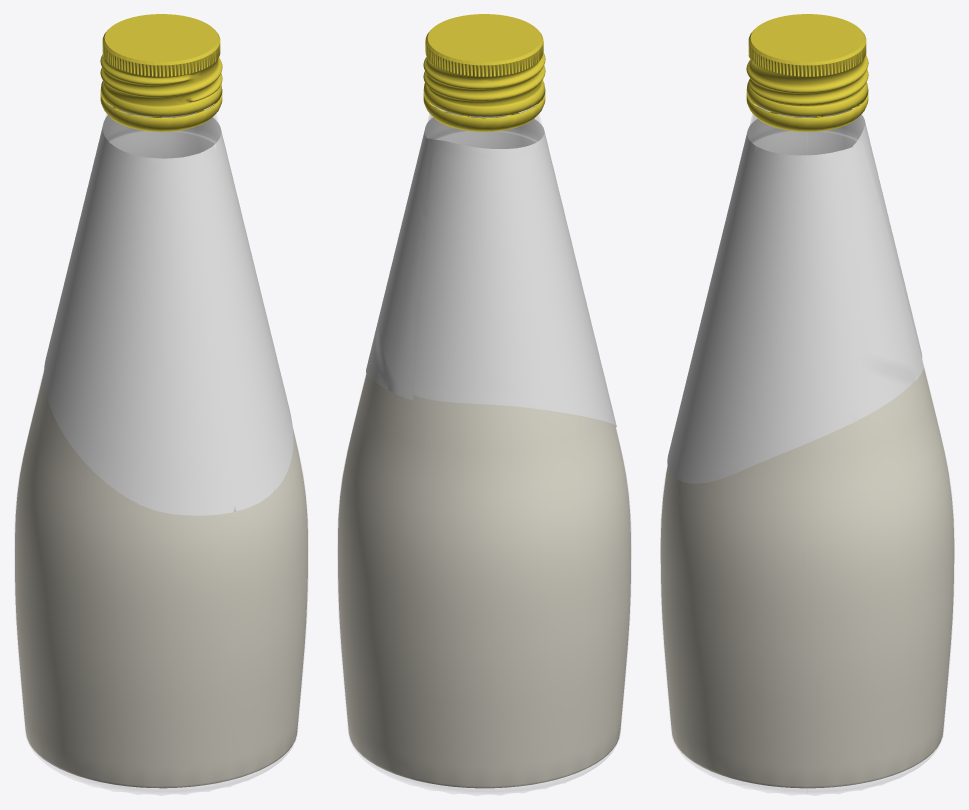
The model's file is glass-290-chia.glb.
The picture shows the model from 3 angles, left to right: view 1: azimuth 30°, elevation 25°; view 2: azimuth 150°, elevation 25°; view 3: azimuth 270°, elevation 25°; orthographic projection.
Visible parts, largest first — view 1: Body, Water, Label, Golden Cap, Neck; view 2: Body, Water, Label, Golden Cap, Neck; view 3: Body, Water, Label, Golden Cap, Neck.
Part boxes in pixels (x1,y1,x2,y2): Body: (14,131,308,795); Water: (15,372,307,788); Label: (44,110,293,515); Golden Cap: (100,14,222,131); Neck: (103,104,220,158); Body: (337,131,631,795); Water: (338,374,630,788); Label: (366,111,616,426); Golden Cap: (423,14,545,131); Neck: (425,104,543,148); Body: (660,131,954,795); Water: (660,368,954,788); Label: (667,109,923,483); Golden Cap: (746,14,868,131); Neck: (747,104,864,154).
Bounding box in the file's own units: 0.0682 × 0.1804 × 0.0682.
